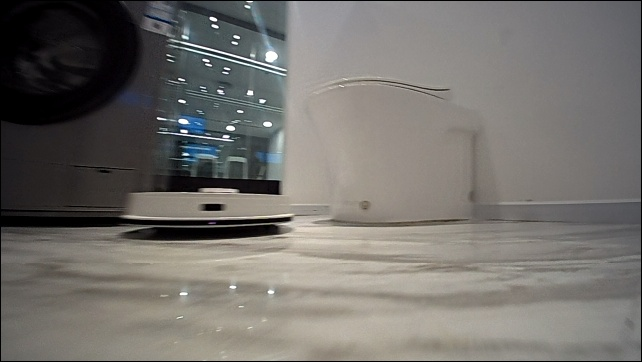toilet: (301, 73, 482, 226)
washing_machine: (0, 0, 179, 227)
